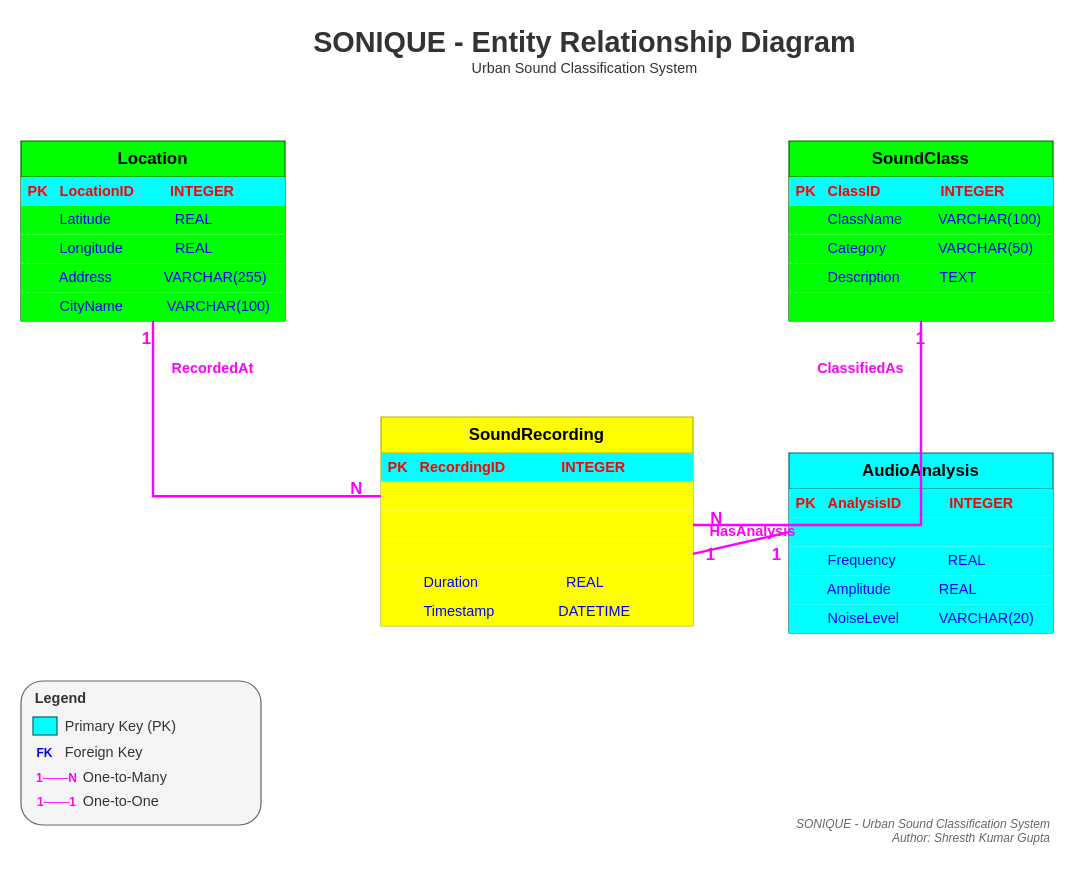
This 1074x869 diagram has some shape labels left out. Here are the shapes that lost their labels. From the top down, the centre of each, then its label:
At point (536, 495): "FK LocationID INTEGER".
At point (536, 524): "FK ClassID INTEGER".
At point (920, 531): "FK RecordingID INTEGER".
At point (536, 553): "Confidence REAL".
